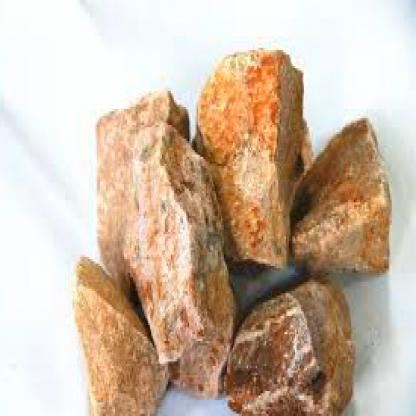Metamorphic_Quartize: (196, 18, 314, 286), (118, 139, 231, 398), (289, 86, 399, 275), (53, 246, 174, 414), (229, 284, 366, 414)
